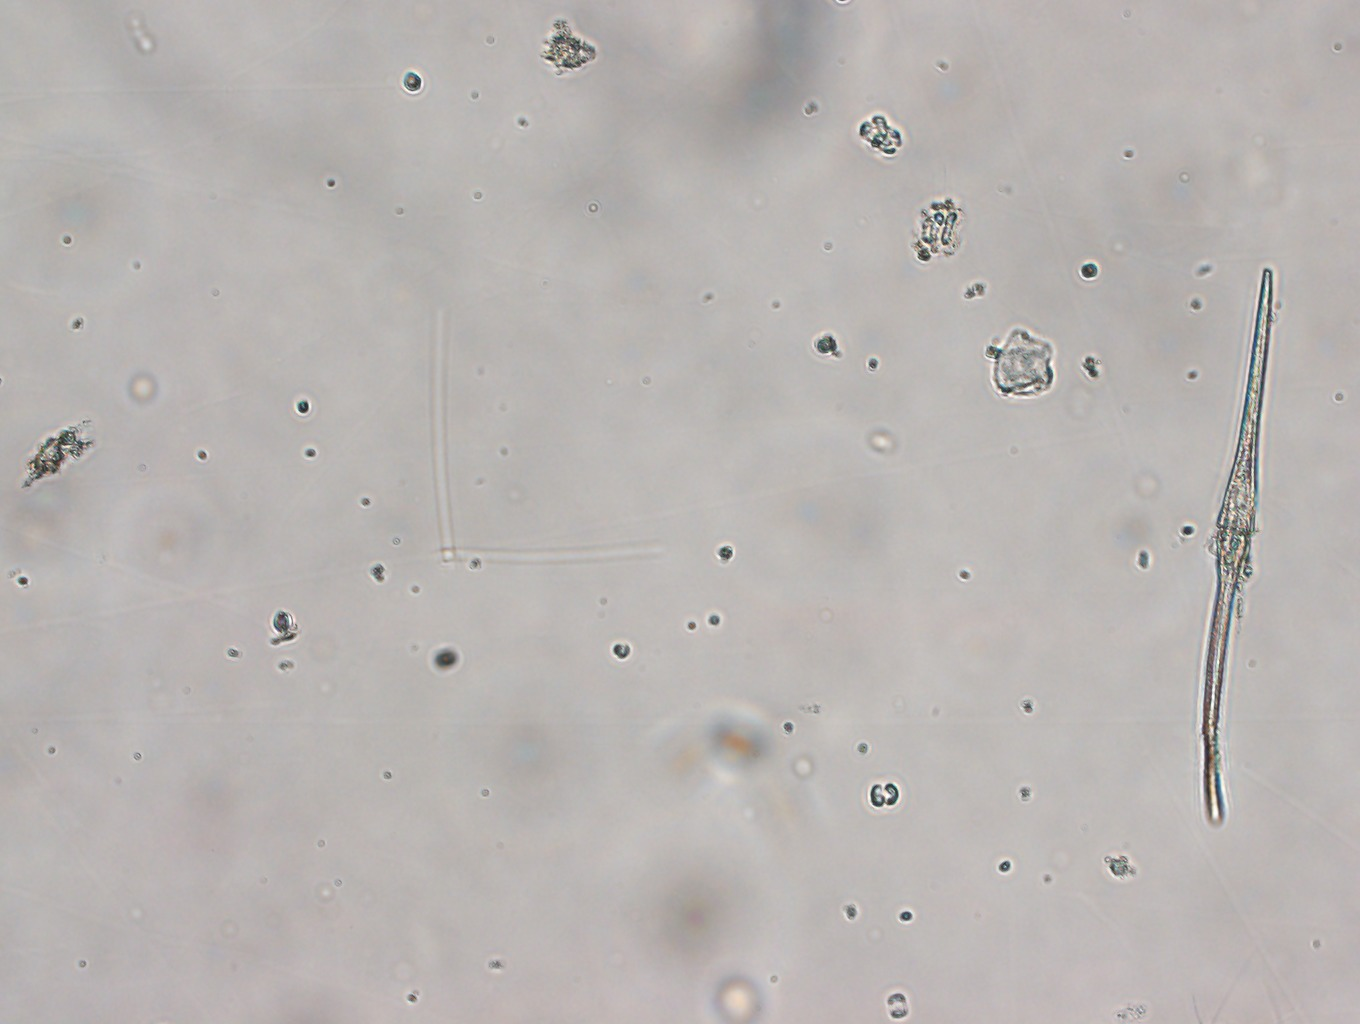ceratium fusus: (1191, 259, 1280, 831)
